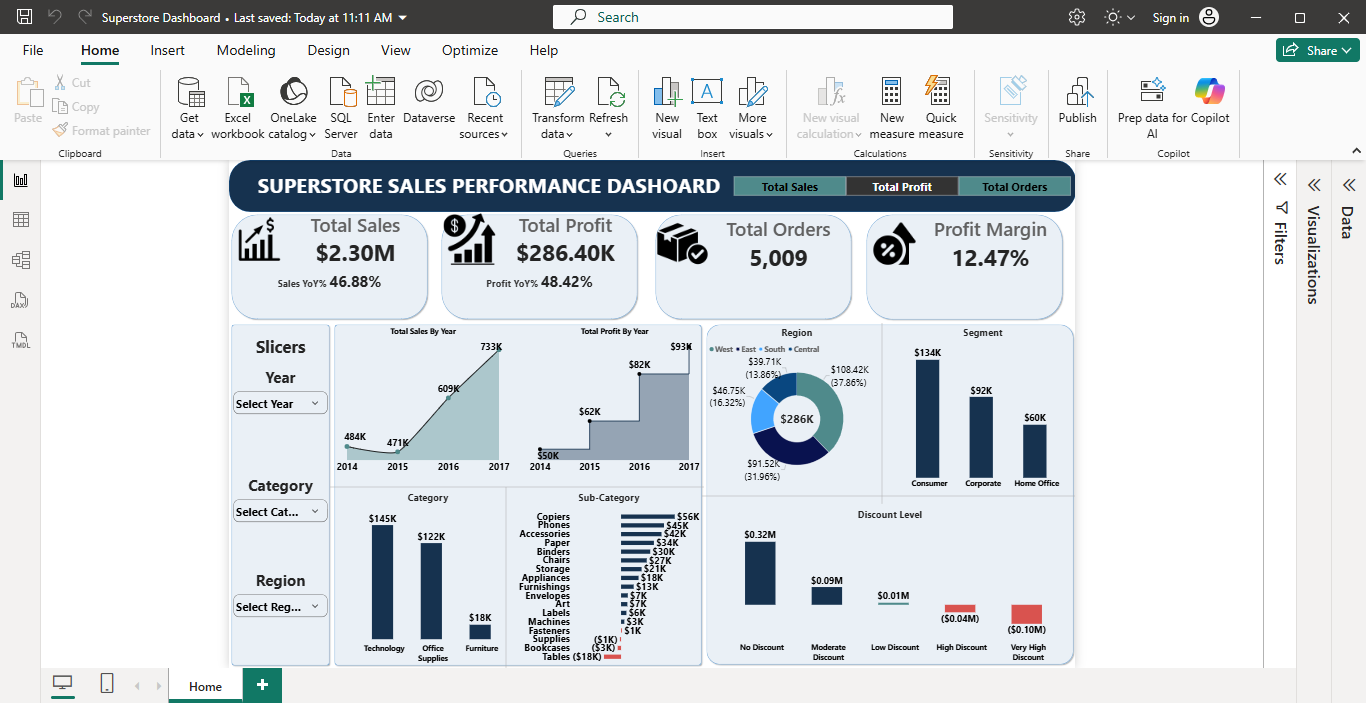

This screenshot's page, from the dashboard's own definition file:
{"tool":"powerbi","page":{"name":"Home","canvas":[3000,1800],"ordinal":0},"visuals":[{"type":"shape","box":[0,0,3001.2,184.3],"z":0},{"type":"textbox","box":[39,39,1764.6,109.8],"z":1000},{"type":"shape","box":[0,184.3,712.2,389],"z":2000},{"type":"shape","box":[1502.4,184.3,712,389],"z":3000},{"type":"shape","box":[2250,184.3,712.2,389.8],"z":4000},{"type":"shape","box":[744.1,184.3,712,389],"z":5000},{"type":"cardVisual","fields":{"Data":["All Measures.Total Sales"]},"box":[0,184.3,712.2,389.8],"z":6000},{"type":"cardVisual","fields":{"Data":["All Measures.Total Profit"]},"box":[744.1,184.3,712.2,389.8],"z":7000},{"type":"cardVisual","fields":{"Data":["All Measures.Total Orders"]},"box":[1498.8,184.3,712.2,226.8],"z":8000},{"type":"cardVisual","fields":{"Data":["All Measures.Profit Margin"]},"box":[2250,184.3,712.2,226.8],"z":9000},{"type":"shape","box":[1683.1,574,1318.1,1222.4],"z":10000},{"type":"shape","box":[365,574,1318.1,1226],"z":11000},{"type":"shape","box":[0,574,365,1226],"z":12000},{"type":"lineChart","title":"Total Profit By Year","fields":{"Category":["Date Table.Year","Date Table.Month"],"Y":["All Measures.Total Profit"]},"box":[1048.8,574,634.3,556.3],"z":13000},{"type":"areaChart","title":"Total Sales By Year","fields":{"Category":["Date Table.Year","Date Table.Month"],"Y":["Sum(Superstore.Sales)"]},"box":[365,574,644.9,556.3],"z":14000},{"type":"shape","box":[357.9,1130.3,1325.2,56.7],"z":15000},{"type":"columnChart","title":"Category","fields":{"Category":["Superstore.Category"],"Y":["All Measures.Total Profit"]},"box":[386.2,1158.7,637.8,641.3],"z":16000},{"type":"shape","box":[953.1,1158.7,56.7,641.3],"z":17000},{"type":"barChart","title":"Sub-Category","fields":{"Category":["Superstore.Sub-Category"],"Y":["All Measures.Total Profit"]},"box":[1009.8,1158.7,673.2,637.8],"z":18000},{"type":"donutChart","title":"Region","fields":{"Category":["Superstore.Region"],"Y":["All Measures.Total Profit"]},"box":[1683.1,574,659.1,584.6],"z":19000},{"type":"clusteredColumnChart","title":"Segment","fields":{"Category":["Superstore.Segment"],"Y":["All Measures.Total Profit"]},"box":[2342.1,574,659.1,613],"z":20000},{"type":"shape","box":[2285.4,577.6,56.7,641.3],"z":21000},{"type":"clusteredColumnChart","title":"Discount Level","fields":{"Category":["Superstore.Discount Group"],"Y":["All Measures.Total Profit"]},"box":[1683.1,1218.9,1318.1,577.6],"z":22000},{"type":"shape","box":[1676,1162.2,1325.2,56.7],"z":23000},{"type":"slicer","fields":{"Values":["Metrics.Metrics"]},"box":[1768.1,56.7,1233.1,70.9],"z":24000},{"type":"textbox","box":[31.9,620.1,301.2,99.2],"z":24001},{"type":"listSlicer","fields":{"Values":["Date Table.Year"]},"box":[0,719.3,365,301.2],"z":24002},{"type":"listSlicer","fields":{"Values":["Superstore.Category"]},"box":[0,1102,365,301.2],"z":24003},{"type":"listSlicer","fields":{"Values":["Superstore.Region"]},"box":[0,1438.6,365,301.2],"z":24004}]}

Visuals, with their boxes on the page's 3000x1800 design canvas (x1, y1, x2, y2). These are canvas units, not pixel positions in the 1366x703 screenshot, which may show the page scaled, cropped or inside an application window:
shape: 0 0 3001 184
textbox: 39 39 1804 149
shape: 0 184 712 573
shape: 1502 184 2214 573
shape: 2250 184 2962 574
shape: 744 184 1456 573
cardVisual - All Measures.Total Sales: 0 184 712 574
cardVisual - All Measures.Total Profit: 744 184 1456 574
cardVisual - All Measures.Total Orders: 1499 184 2211 411
cardVisual - All Measures.Profit Margin: 2250 184 2962 411
shape: 1683 574 3001 1796
shape: 365 574 1683 1800
shape: 0 574 365 1800
"Total Profit By Year" lineChart: 1049 574 1683 1130
"Total Sales By Year" areaChart: 365 574 1010 1130
shape: 358 1130 1683 1187
"Category" columnChart: 386 1159 1024 1800
shape: 953 1159 1010 1800
"Sub-Category" barChart: 1010 1159 1683 1796
"Region" donutChart: 1683 574 2342 1159
"Segment" clusteredColumnChart: 2342 574 3001 1187
shape: 2285 578 2342 1219
"Discount Level" clusteredColumnChart: 1683 1219 3001 1796
shape: 1676 1162 3001 1219
slicer - Metrics.Metrics: 1768 57 3001 128
textbox: 32 620 333 719
listSlicer - Date Table.Year: 0 719 365 1020
listSlicer - Superstore.Category: 0 1102 365 1403
listSlicer - Superstore.Region: 0 1439 365 1740
